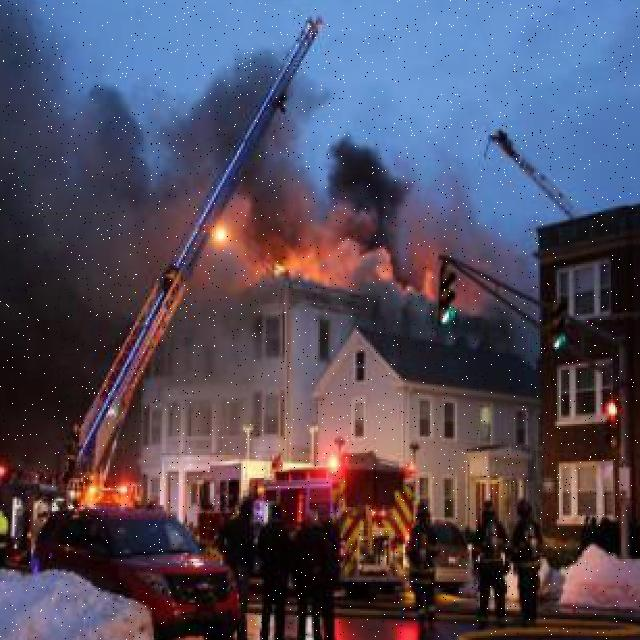smoke: (133, 58, 253, 299), (254, 131, 491, 247), (356, 249, 436, 339), (254, 250, 353, 308)
